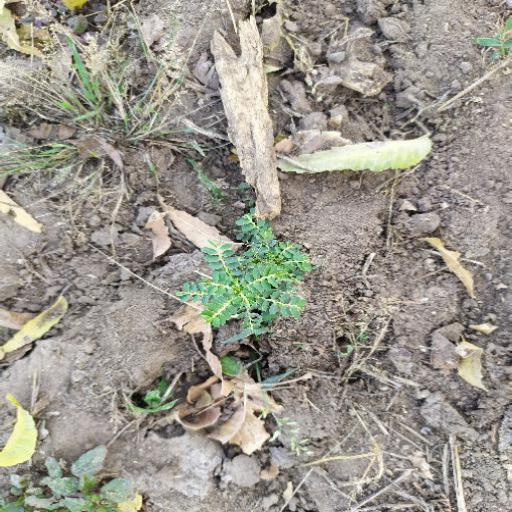weed: (11, 24, 208, 215), (167, 213, 313, 356)
